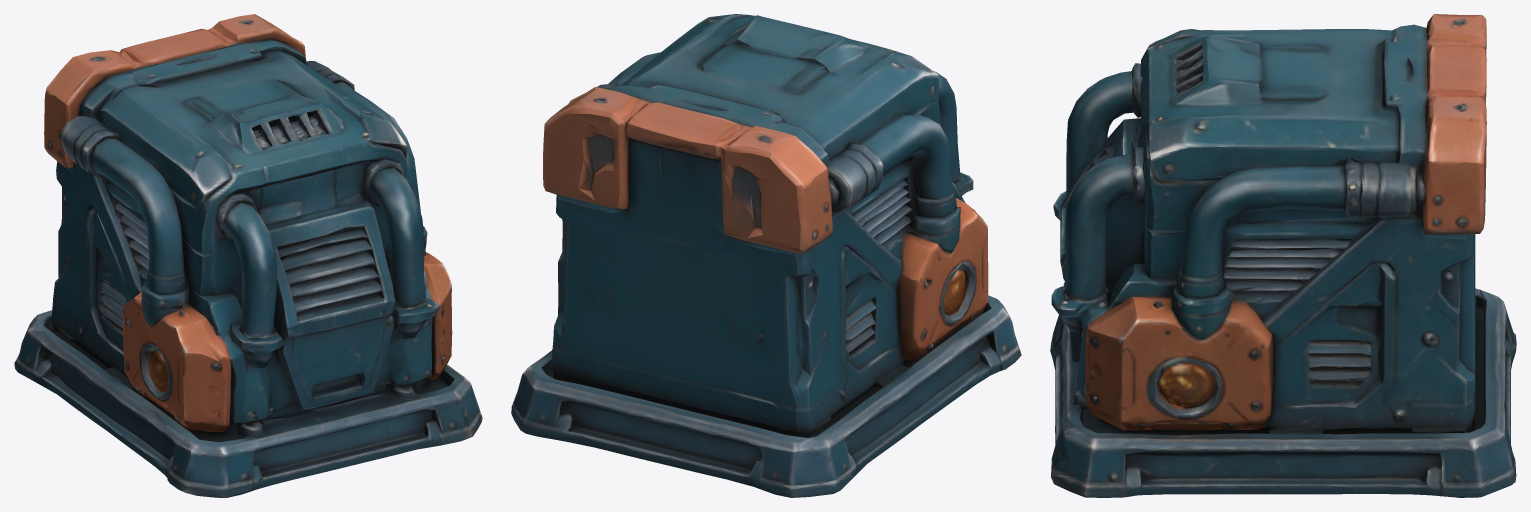
The model's file is industrial.glb.
3 views of the same model, side by side, from view 1: azimuth 30°, elevation 25°; view 2: azimuth 150°, elevation 25°; view 3: azimuth 270°, elevation 25° (orthographic). The views are drawn at different scales.
Visible parts, largest first — view 1: Mesh; view 2: Mesh; view 3: Mesh.
Boxes of the visible parts, x1,y1,x2,y2 form: Mesh: (14,14,482,497); Mesh: (511,14,1021,497); Mesh: (1050,14,1516,497).
Size of the model in its own units: 1.63 by 1.6 by 1.89.
Materials: 1 (1 with a texture image).
